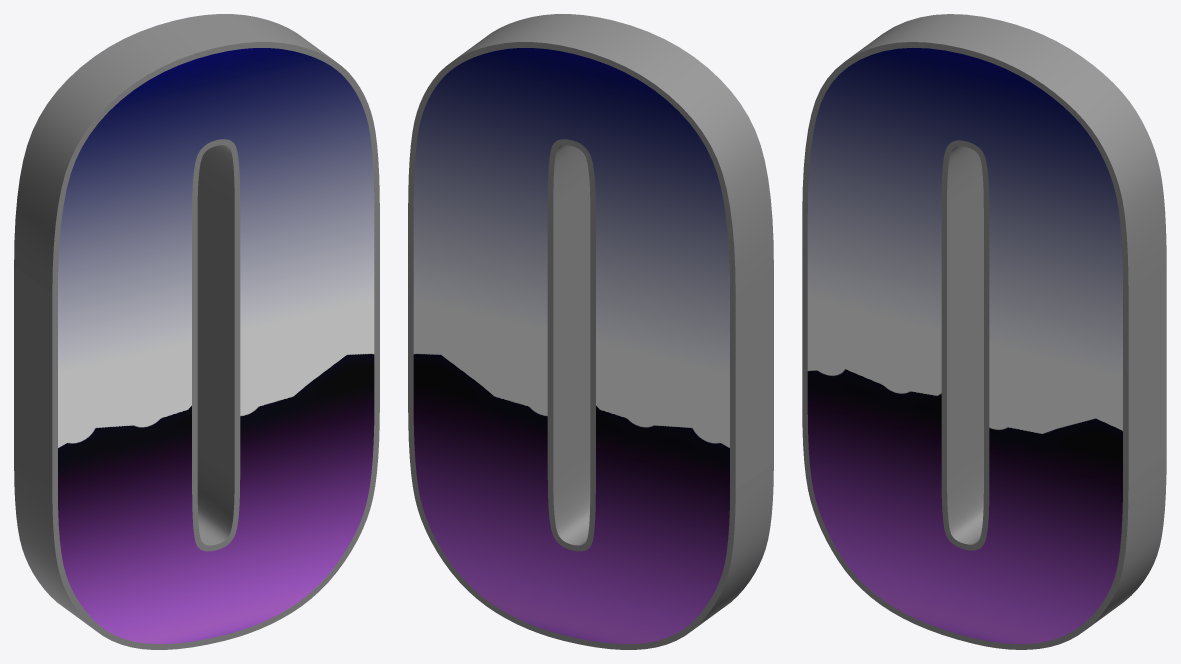
3 renders of one model, left to right at view 1: azimuth 30°, elevation 25°; view 2: azimuth 150°, elevation 25°; view 3: azimuth 330°, elevation 25°, orthographic.
Parts seen in each view (by area): view 1: 0, 0_outline; view 2: 0, 0_outline; view 3: 0, 0_outline.
Boxes of the visible parts, bbox=[...] form: 0: bbox=[58, 48, 374, 643]; 0_outline: bbox=[14, 14, 379, 649]; 0: bbox=[413, 48, 729, 643]; 0_outline: bbox=[408, 14, 773, 649]; 0: bbox=[807, 48, 1122, 643]; 0_outline: bbox=[802, 14, 1166, 649].
Bounding box in the file's own units: 59.3 × 103 × 12.
2 materials, 1 textured.
